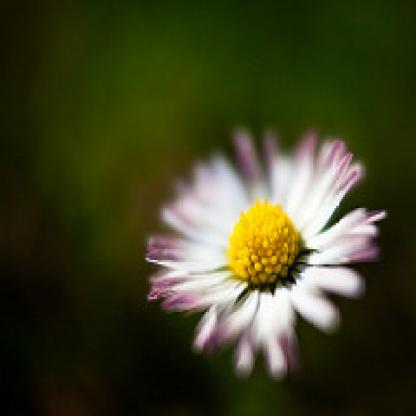ASTER: (128, 68, 395, 395)
